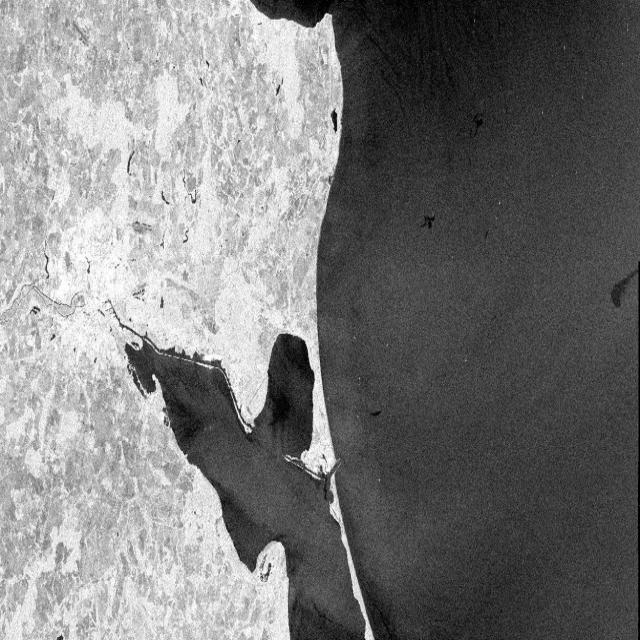look-alike: (221, 480, 280, 580), (260, 340, 316, 445), (156, 357, 209, 449), (290, 585, 352, 640), (360, 574, 397, 640), (606, 257, 638, 320)
oil-spill: (416, 205, 440, 236), (471, 111, 488, 146), (479, 224, 494, 246)
